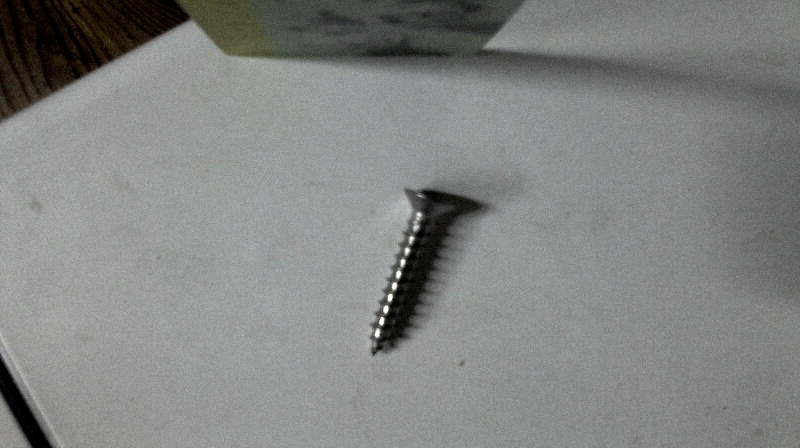S001: (366, 185, 453, 358)
